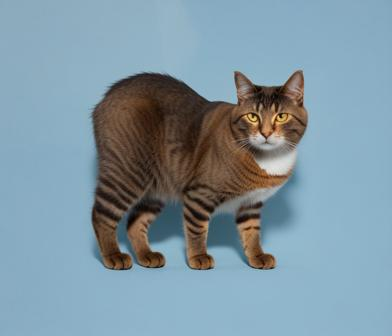cat: (87, 70, 311, 269)
